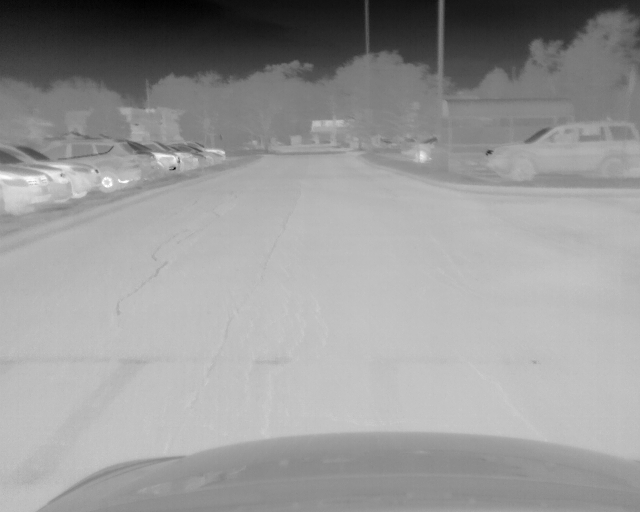car: (484, 121, 640, 185), (1, 144, 100, 201), (43, 137, 142, 190), (1, 164, 53, 215), (118, 139, 159, 181), (139, 139, 179, 173), (165, 144, 199, 170), (193, 143, 225, 167)
